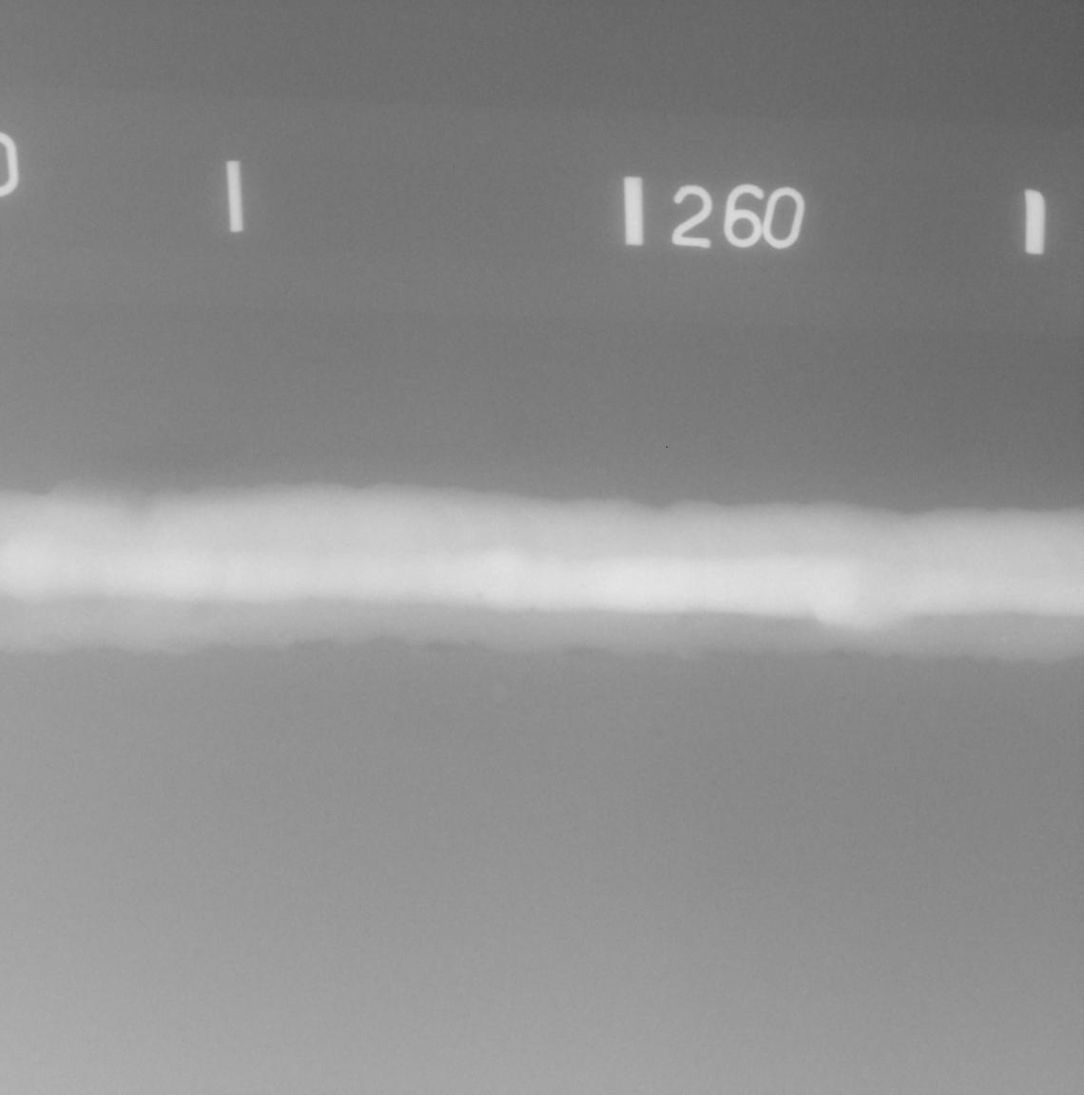Pore/Porosity: (475, 592, 484, 599), (531, 607, 535, 612), (579, 584, 585, 587)
